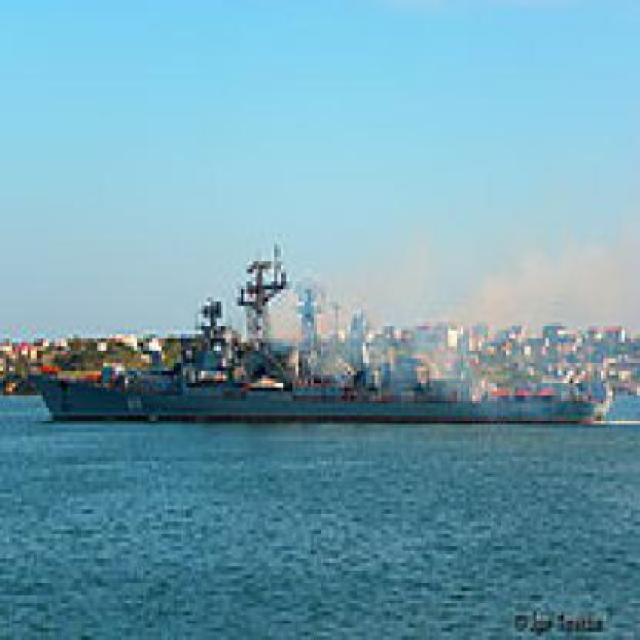warship2: (28, 246, 614, 433)
